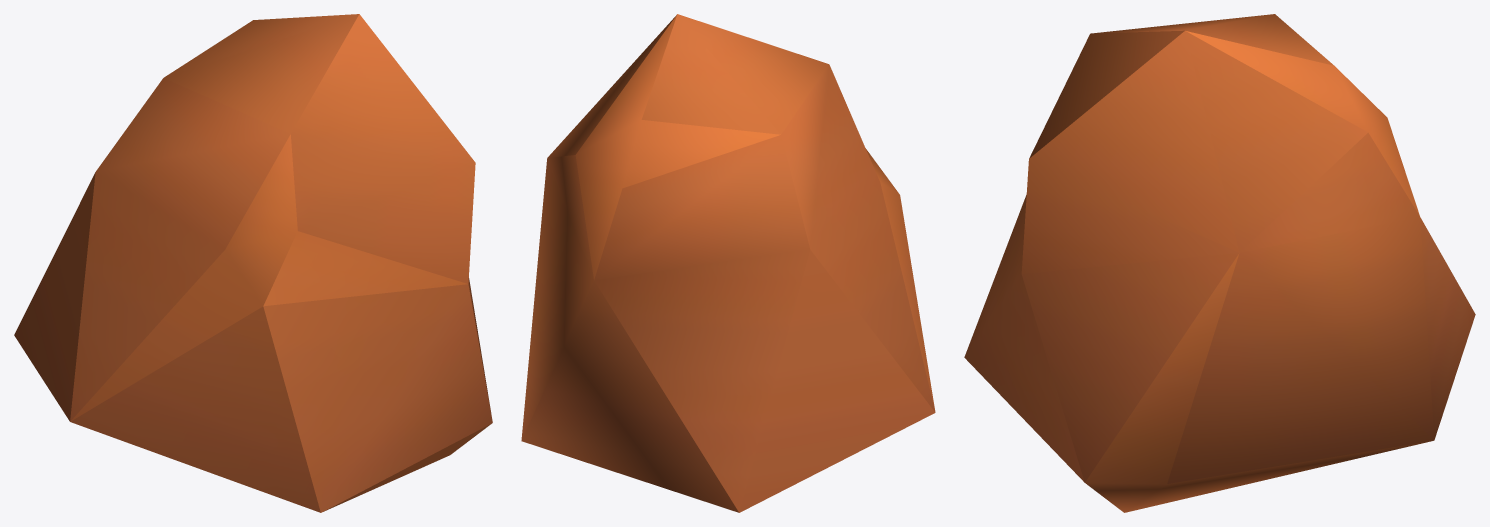
File: copper_nugget_medium.glb
3 renders of one model, left to right at view 1: azimuth 30°, elevation 25°; view 2: azimuth 150°, elevation 25°; view 3: azimuth 270°, elevation 25°, orthographic. The views are drawn at different scales.
Parts seen in each view (by area): view 1: Copper_Nugget_Medium; view 2: Copper_Nugget_Medium; view 3: Copper_Nugget_Medium.
Part boxes in pixels (x1,y1,x2,y2): Copper_Nugget_Medium: (14,14,492,512); Copper_Nugget_Medium: (521,14,935,512); Copper_Nugget_Medium: (964,14,1475,512).
Bounding box in the file's own units: 0.2589 × 0.2781 × 0.2819.
Materials: 1 (1 with a texture image).
